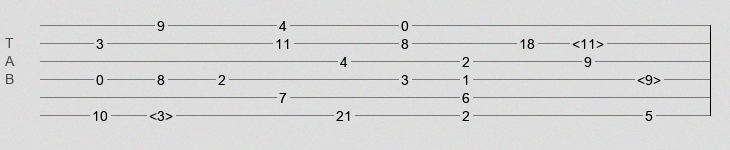0: (96, 72, 104, 82), (401, 18, 409, 28)
1: (462, 72, 470, 82)
10: (92, 108, 108, 118)
11: (275, 36, 291, 46)
18: (519, 36, 535, 46)
2: (218, 72, 226, 82), (462, 54, 470, 64), (462, 108, 470, 118)
21: (336, 108, 352, 118)
3: (96, 36, 104, 46), (401, 72, 409, 82)
4: (279, 18, 287, 28), (340, 54, 348, 64)
5: (645, 108, 653, 118)
6: (462, 90, 470, 100)
7: (279, 90, 287, 100)
8: (157, 72, 165, 82), (401, 36, 409, 46)
9: (157, 18, 165, 28), (584, 54, 592, 64)
harmonic: (572, 36, 604, 46), (149, 108, 173, 118), (637, 72, 661, 82)
